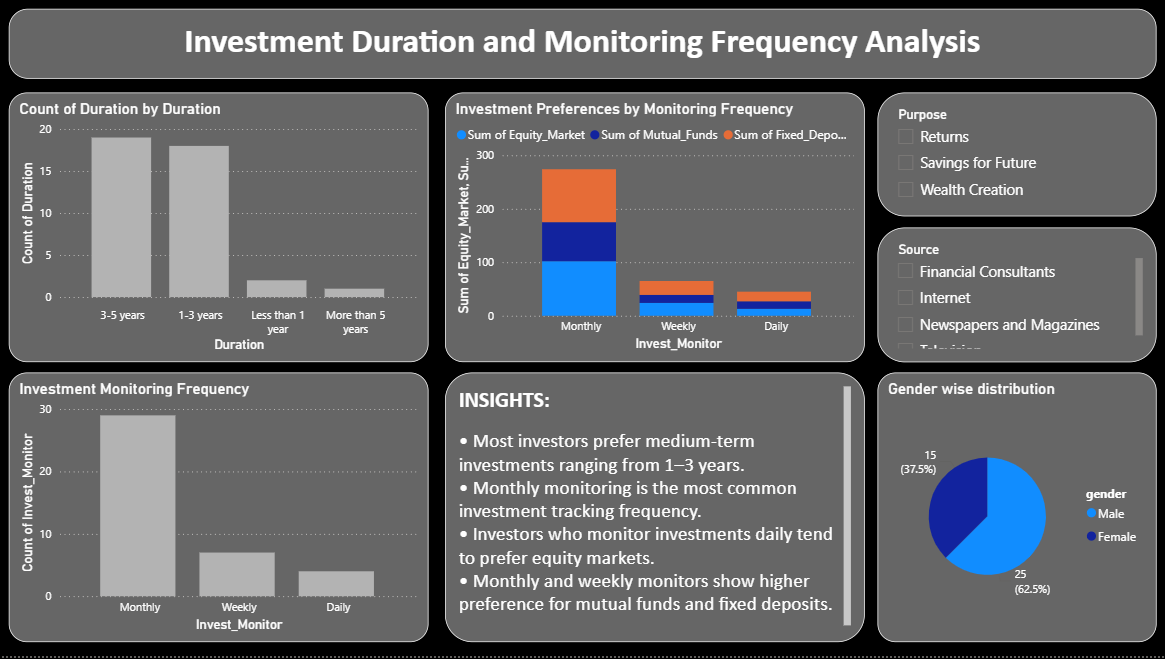

The dashboard page shown, as its layout file describes it:
{"tool":"powerbi","page":{"name":"Page 1","canvas":[1280,720],"ordinal":0},"visuals":[{"type":"textbox","box":[9.6,9.6,1259.7,76.8],"z":0},{"type":"columnChart","fields":{"Category":["Data_set 2.Duration"],"Y":["CountNonNull(Data_set 2.Duration)"]},"box":[9.6,101.5,461.1,296.4],"z":1000},{"type":"columnChart","title":"Investment Monitoring Frequency","fields":{"Category":["Data_set 2.Invest_Monitor"],"Y":["CountNonNull(Data_set 2.Invest_Monitor)"]},"box":[9.6,408.9,461.1,296.4],"z":2000},{"type":"columnChart","title":"Investment Preferences by Monitoring Frequency","fields":{"Category":["Data_set 2.Invest_Monitor"],"Y":["Sum(Data_set 2.Equity_Market)","Sum(Data_set 2.Mutual_Funds)","Sum(Data_set 2.Fixed_Deposits)"]},"box":[488.5,101.5,461.1,296.4],"z":3000},{"type":"textbox","box":[488.5,408.9,461.1,296.4],"z":4000},{"type":"pieChart","title":"Gender wise distribution","fields":{"Category":["Data_set 2.gender"],"Y":["CountNonNull(Data_set 2.gender)"]},"box":[963.3,408.9,306,296.4],"z":5000},{"type":"slicer","fields":{"Values":["Data_set 2.Purpose"]},"box":[963.3,101.5,306,135.8],"z":6000},{"type":"slicer","fields":{"Values":["Data_set 2.Source"]},"box":[963.3,249.7,306,148.2],"z":7000}]}

Visuals, with their boxes in screenshot pixels (x1, y1, x2, y2), scaled from the page's 1280x720 canvas onto the 1165x659 screenshot:
textbox: 9:9:1155:79
columnChart - Data_set 2.Duration x CountNonNull(Data_set 2.Duration): 9:93:428:364
"Investment Monitoring Frequency" columnChart: 9:374:428:646
"Investment Preferences by Monitoring Frequency" columnChart: 445:93:864:364
textbox: 445:374:864:646
"Gender wise distribution" pieChart: 877:374:1155:646
slicer - Data_set 2.Purpose: 877:93:1155:217
slicer - Data_set 2.Source: 877:229:1155:364
